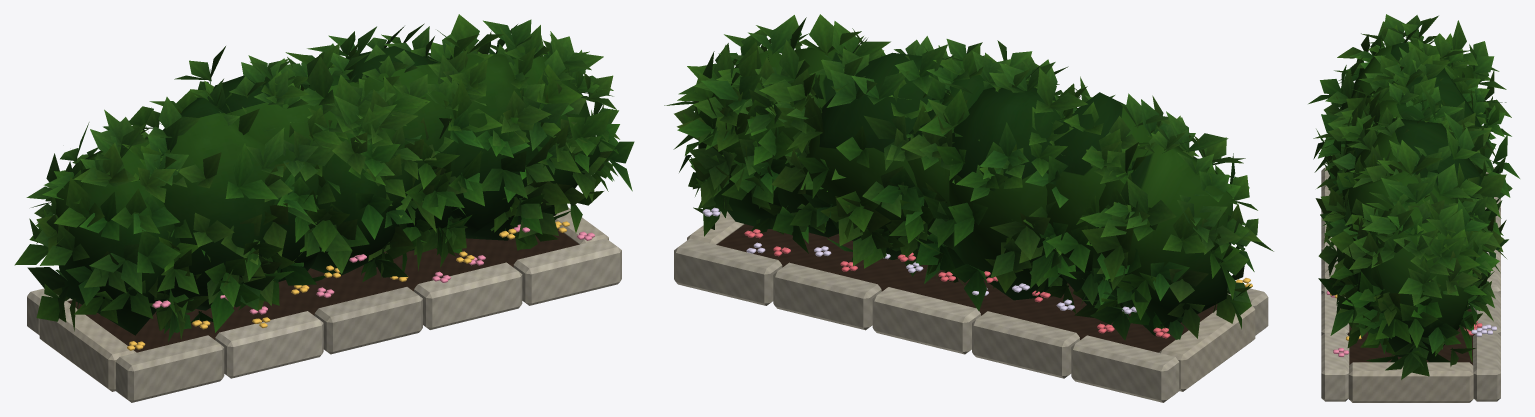
File: prop_hedge_trimmed_aaa-3e4b27a371a8.glb
The picture shows the model from 3 angles, left to right: view 1: azimuth 30°, elevation 25°; view 2: azimuth 150°, elevation 25°; view 3: azimuth 270°, elevation 25°; orthographic projection. The views are drawn at different scales.
Visible parts, largest first — view 1: prop_hedge_trimmed_aaa; view 2: prop_hedge_trimmed_aaa; view 3: prop_hedge_trimmed_aaa.
Boxes of the visible parts, x1,y1,x2,y2 form: prop_hedge_trimmed_aaa: (14,14,634,402); prop_hedge_trimmed_aaa: (664,14,1273,402); prop_hedge_trimmed_aaa: (1308,14,1519,402).
Bounding box in the file's own units: 2.37 × 1.04 × 0.8885.
3 materials, 2 textured.
